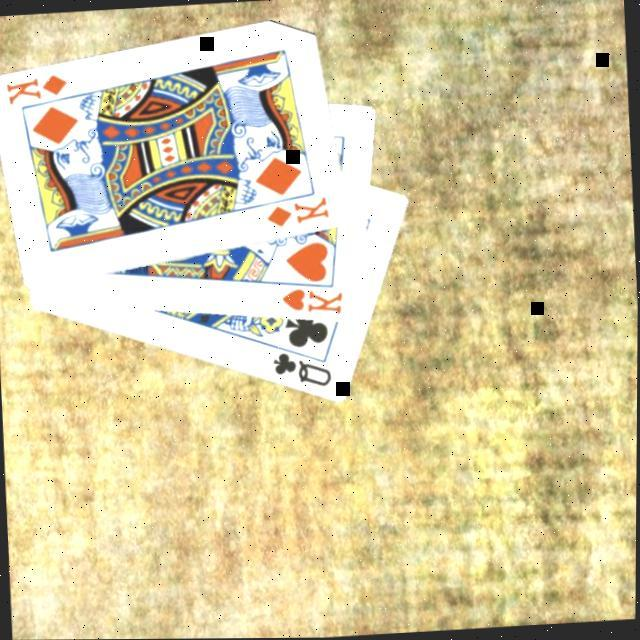KD: (261, 192, 333, 230), (0, 69, 70, 107)
KH: (276, 283, 345, 320)
QC: (267, 346, 335, 392)
